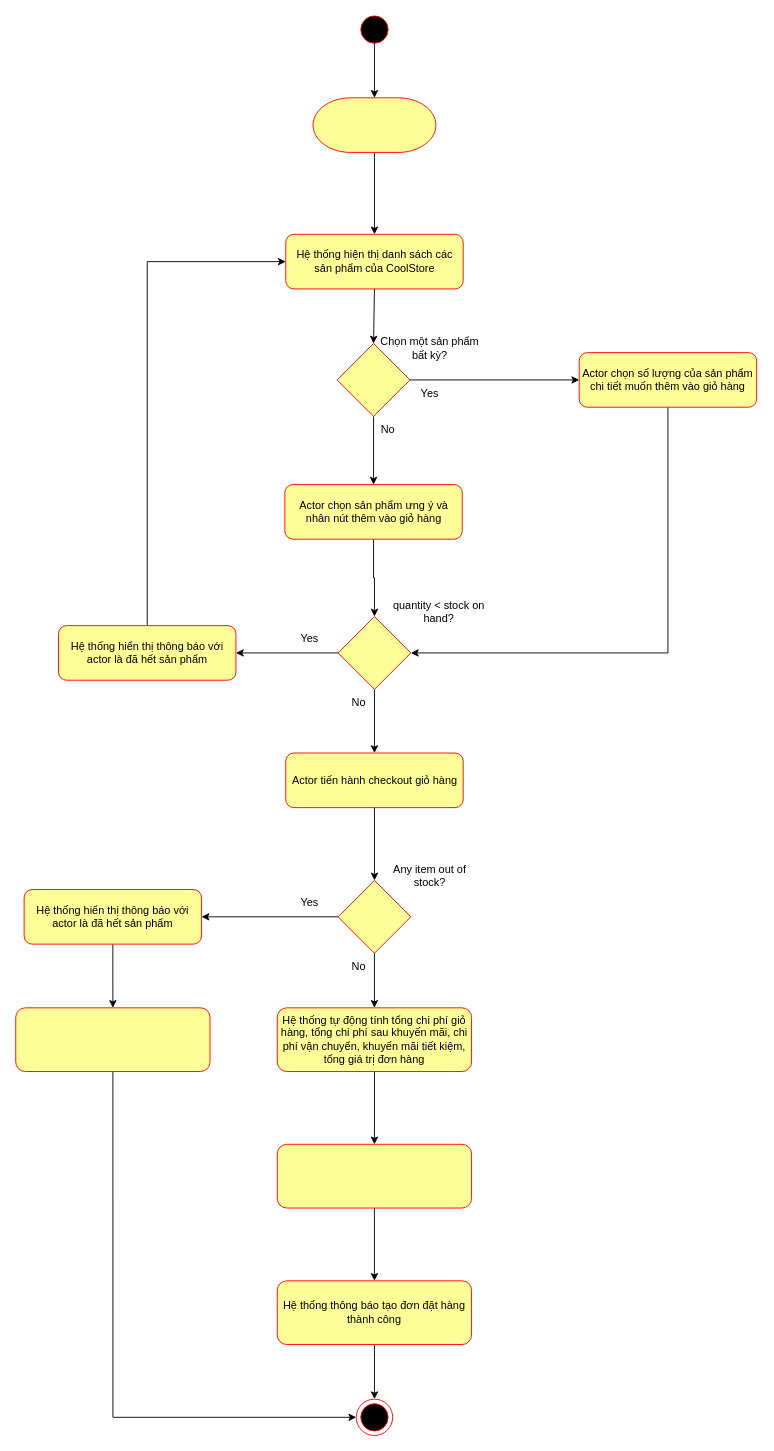
The diagram is 774 pixels wide and 1451 high, and some of its shapes have lost their labels. The shapes that lost their labels are listed below. From the top down, each one's centre as x and y in pixels, then its label:
At (x=374, y=124): "Thực hiện đăng nhập".
At (x=112, y=1039): "Hệ thống điều hướng actor quay trở lại giỏ hàng".
At (x=374, y=1175): "Actor chọn phương thức thanh toán và thanh toán đơn hàng".
